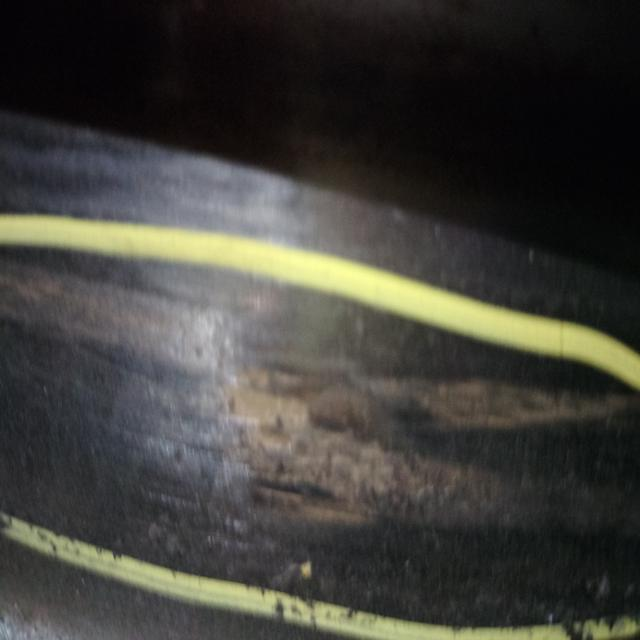Peeling: (213, 318, 571, 570)
